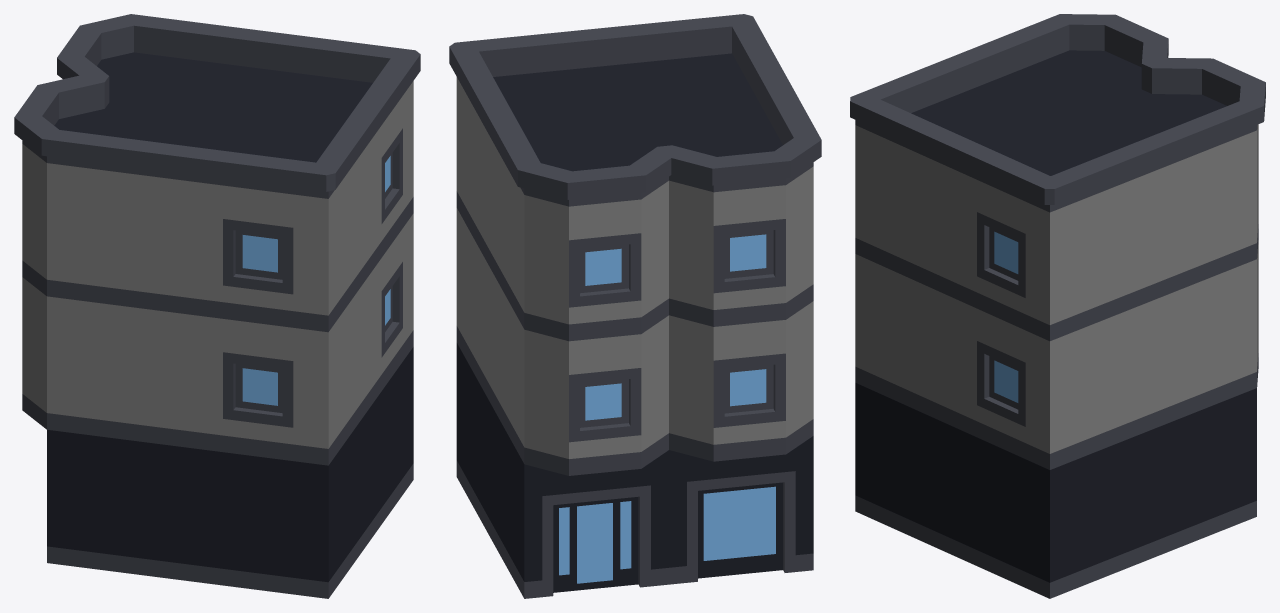
File: variant_6.obj
3 views of the same model, side by side, from view 1: azimuth 30°, elevation 25°; view 2: azimuth 150°, elevation 25°; view 3: azimuth 270°, elevation 25° (orthographic). The views are drawn at different scales.
Visible parts, largest first — view 1: Building; view 2: Building; view 3: Building.
Part boxes in pixels (bbox=[...]): Building: bbox=[14, 14, 420, 598]; Building: bbox=[449, 14, 821, 598]; Building: bbox=[850, 14, 1265, 598].
Size of the model in its own units: 1.17 by 1.28 by 1.17.
